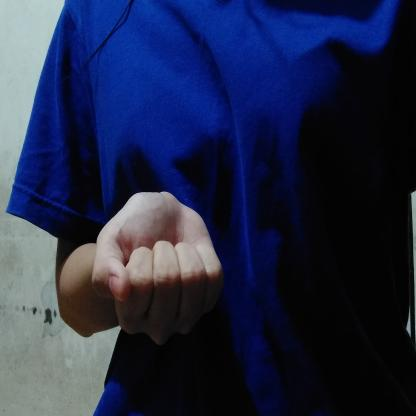where: (88, 182, 236, 358)
